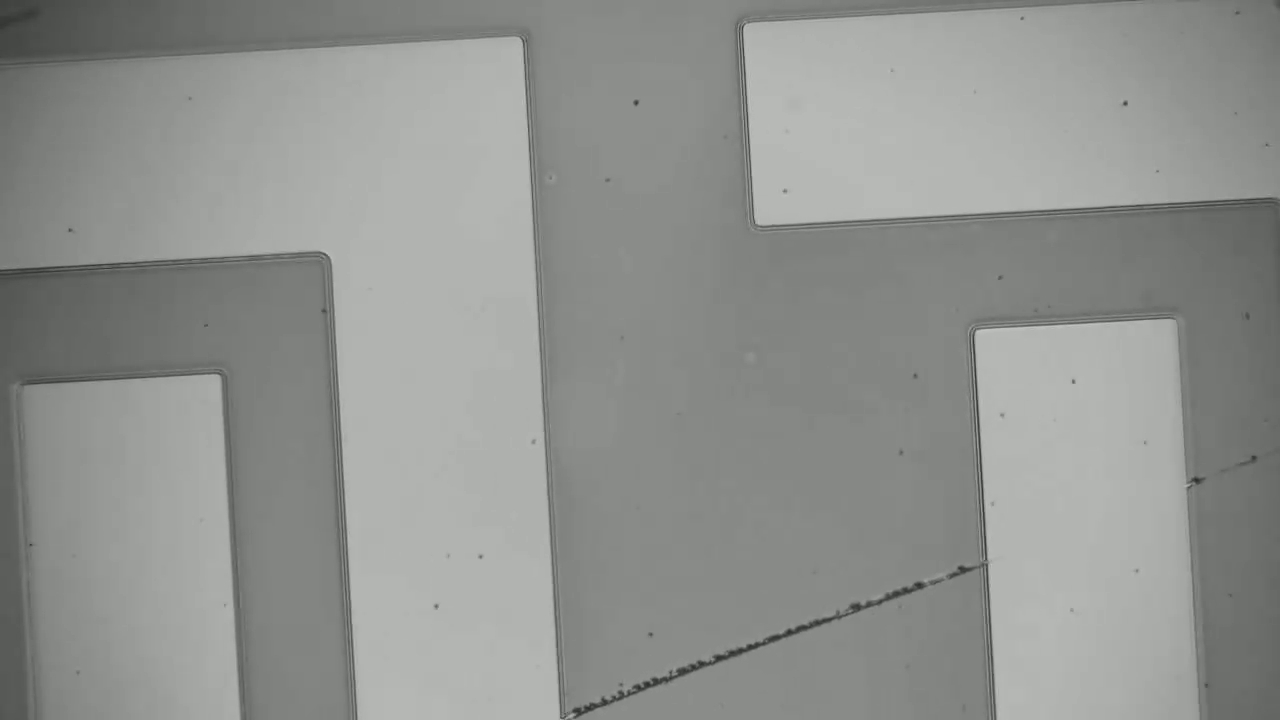scratch: (582, 556, 983, 712), (1198, 446, 1265, 485)
